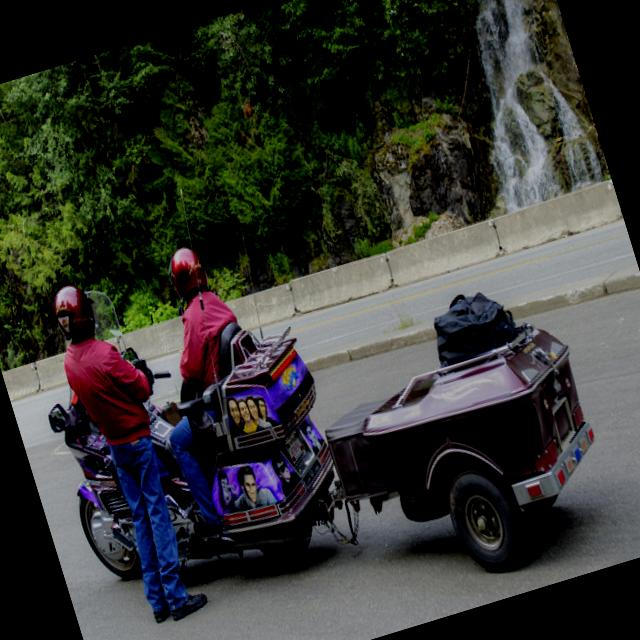Vehicle: (28, 228, 631, 640)
